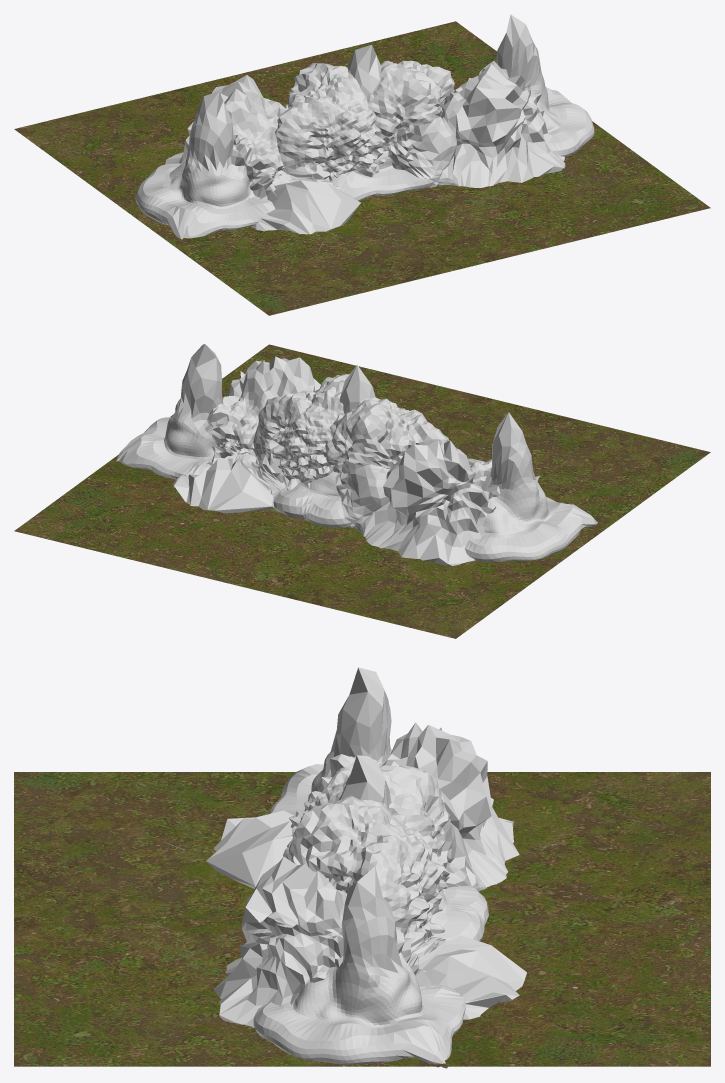
File: dağ.fbx
3 renders of one model, top to bottom at view 1: azimuth 30°, elevation 25°; view 2: azimuth 150°, elevation 25°; view 3: azimuth 270°, elevation 25°, orthographic. The views are drawn at different scales.
Visible parts, largest first — view 1: Plane, Icosphere.005, Icosphere.001, Icosphere.003; view 2: Plane, Icosphere.005, Icosphere.001, Icosphere.003; view 3: Plane, Icosphere.005, Icosphere.001, Icosphere.003.
Part boxes in pixels (<box>): Plane: <box>14,21,710,315</box>; Icosphere.005: <box>165,61,565,234</box>; Icosphere.001: <box>135,14,594,239</box>; Icosphere.003: <box>275,60,457,187</box>; Plane: <box>14,344,710,638</box>; Icosphere.005: <box>173,356,539,565</box>; Icosphere.001: <box>116,344,597,561</box>; Icosphere.003: <box>253,374,449,527</box>; Plane: <box>14,772,710,1066</box>; Icosphere.005: <box>206,722,526,1027</box>; Icosphere.001: <box>253,667,488,1068</box>; Icosphere.003: <box>283,765,472,937</box>.
Bounding box in the file's own units: 2198 × 729 × 2198.
2 materials, 1 textured.
